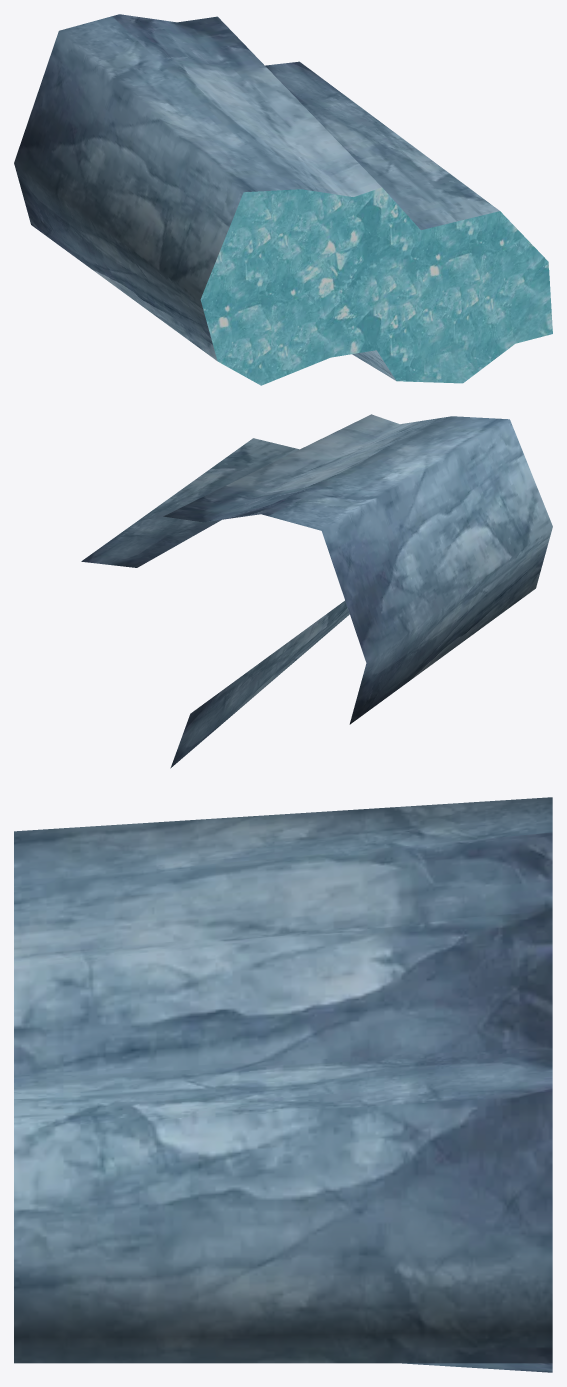
3 views of the same model, one above another, from view 1: azimuth 30°, elevation 25°; view 2: azimuth 150°, elevation 25°; view 3: azimuth 270°, elevation 25° (orthographic). The views are drawn at different scales.
Visible parts, largest first — view 1: model_Object68; view 2: model_Object68; view 3: model_Object68.
Part boxes in pixels (x1,y1,x2,y2): model_Object68: (14, 14, 552, 385); model_Object68: (81, 414, 552, 768); model_Object68: (14, 797, 552, 1372).
Bounding box in the file's own units: 4.71 × 3.71 × 4.32.
Materials: 2 (2 with a texture image).
